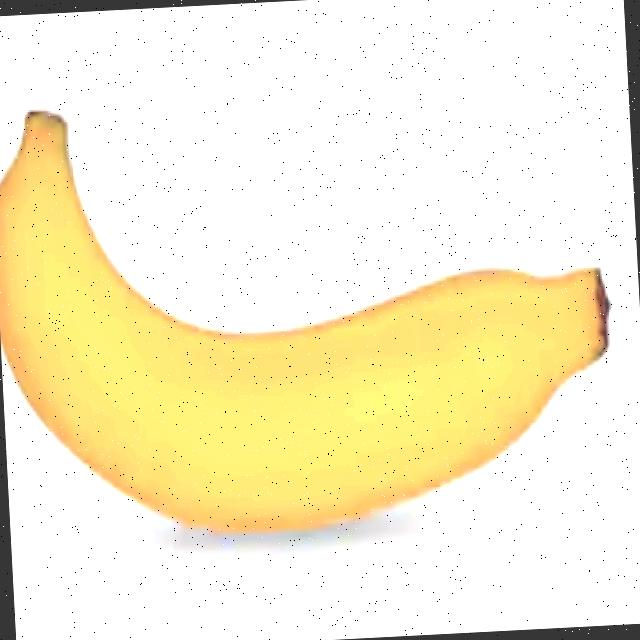Ripe: (0, 46, 627, 545)
